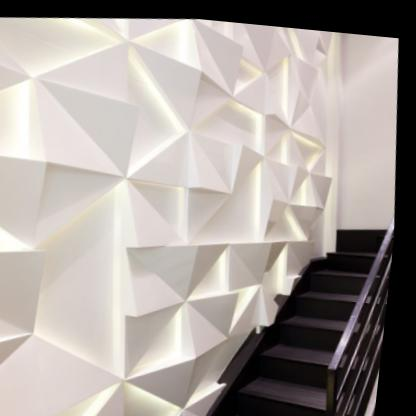Futech tiles: (0, 4, 301, 360)
